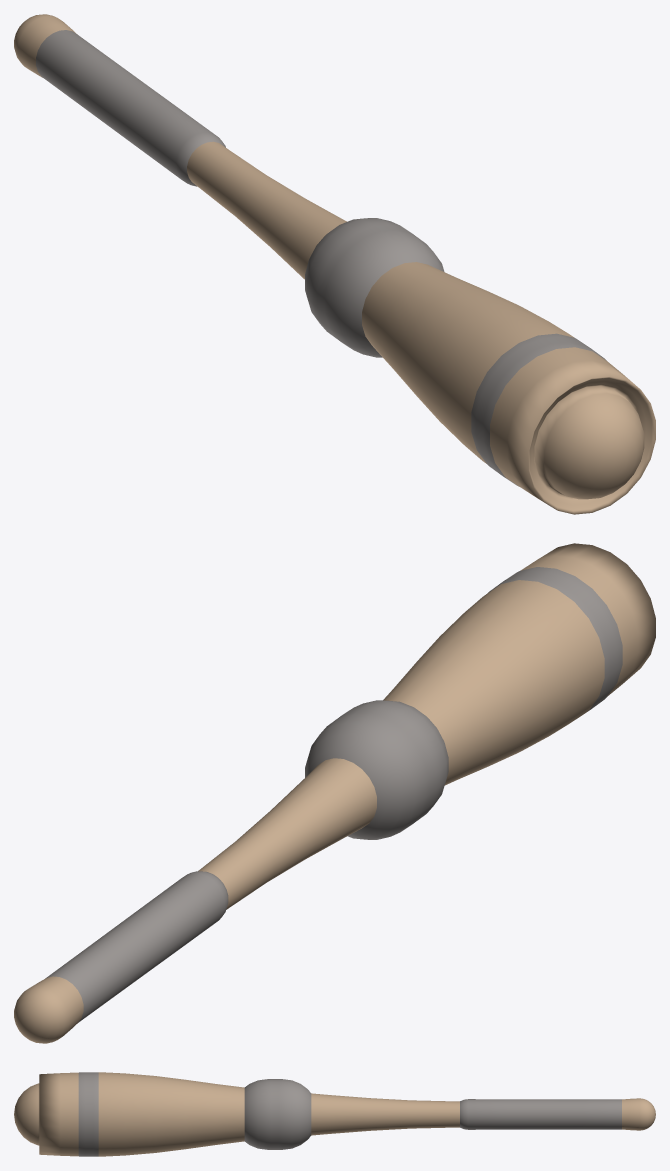
Rendered from SM_Club.fbx.
The picture shows the model from 3 angles, top to bottom: view 1: azimuth 30°, elevation 25°; view 2: azimuth 150°, elevation 25°; view 3: azimuth 270°, elevation 25°; orthographic projection. The views are drawn at different scales.
Parts seen in each view (by area): view 1: SM_Club; view 2: SM_Club; view 3: SM_Club.
Boxes of the visible parts, bbox=[...] form: SM_Club: bbox=[14, 14, 655, 514]; SM_Club: bbox=[14, 543, 655, 1043]; SM_Club: bbox=[14, 1072, 655, 1156].
Bounding box in the file's own units: 0.1183 × 0.1195 × 0.898.
